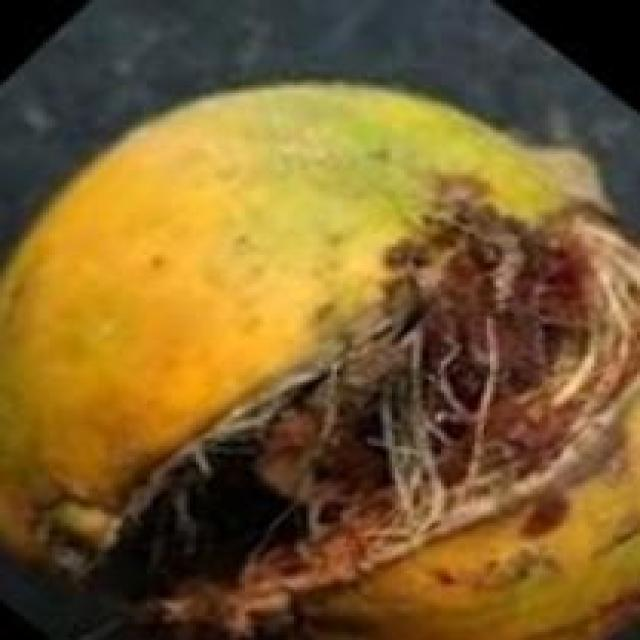damaged: (0, 82, 637, 637)
